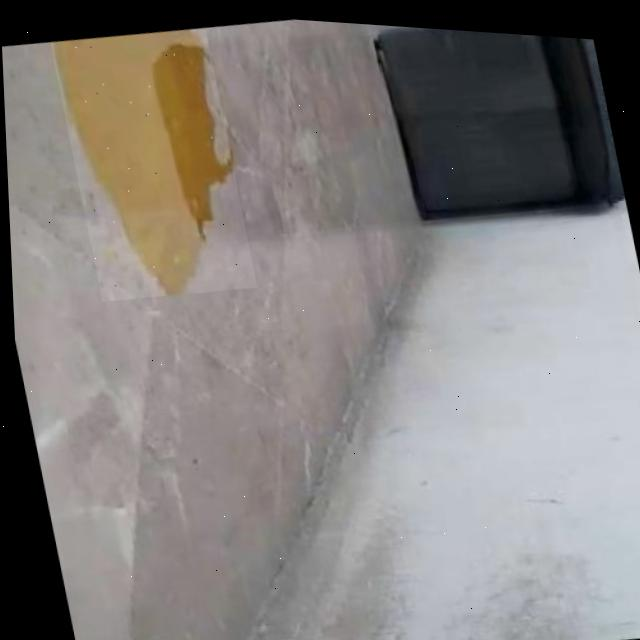spillage: (50, 28, 230, 293)
